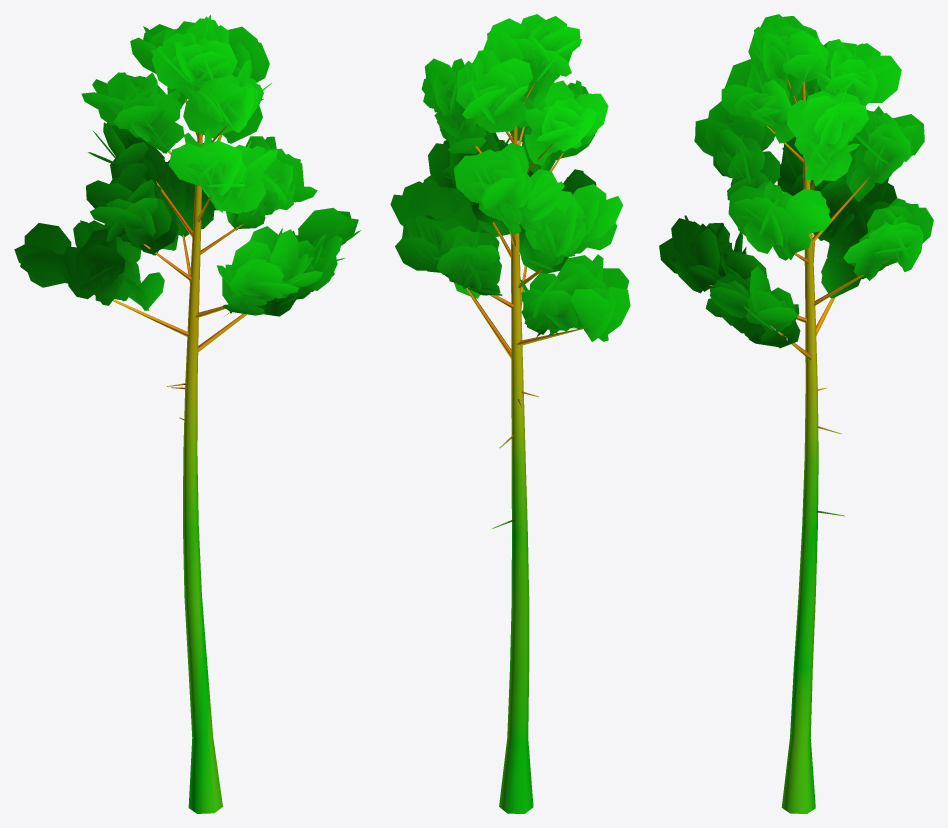
Rendered from tree_pine_b_lod1.glb.
The picture shows the model from 3 angles, left to right: view 1: azimuth 30°, elevation 25°; view 2: azimuth 150°, elevation 25°; view 3: azimuth 270°, elevation 25°; orthographic projection.
Parts seen in each view (by area): view 1: tree_pine_b_lod1.1, tree_pine_b_lod1.0; view 2: tree_pine_b_lod1.1, tree_pine_b_lod1.0; view 3: tree_pine_b_lod1.1, tree_pine_b_lod1.0.
Part boxes in pixels (x1=…): tree_pine_b_lod1.1: x1=14, y1=14, x2=360, y2=316; tree_pine_b_lod1.0: x1=113, y1=98, x2=246, y2=813; tree_pine_b_lod1.1: x1=390, y1=14, x2=630, y2=341; tree_pine_b_lod1.0: x1=466, y1=84, x2=583, y2=813; tree_pine_b_lod1.1: x1=659, y1=14, x2=933, y2=348; tree_pine_b_lod1.0: x1=709, y1=79, x2=888, y2=813.
Bounding box in the file's own units: 7.92 × 21.15 × 6.75.
